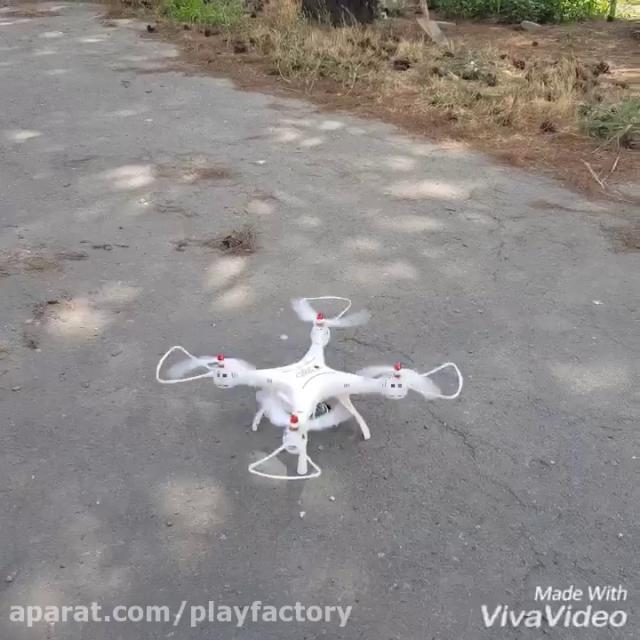drone: (147, 292, 466, 484)
